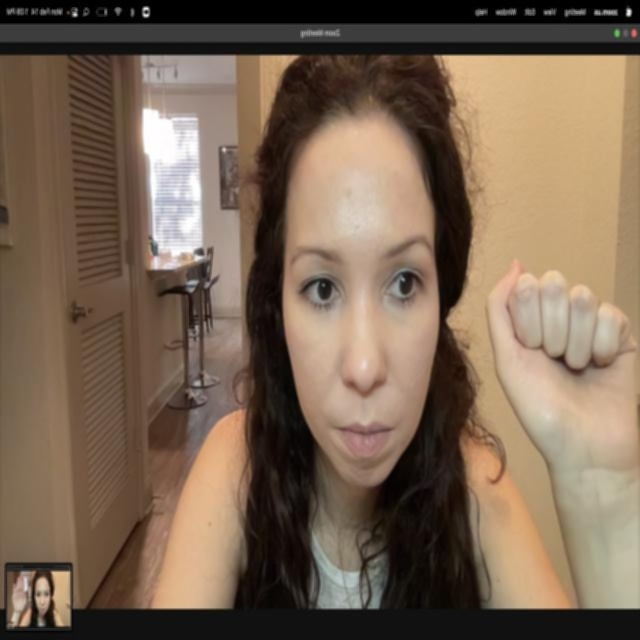Rock: (483, 242, 637, 485)
